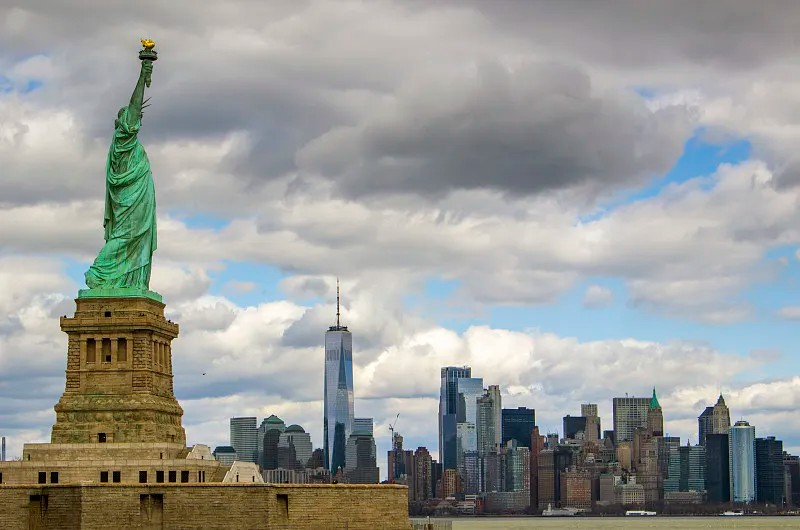SL: (50, 38, 187, 444)
